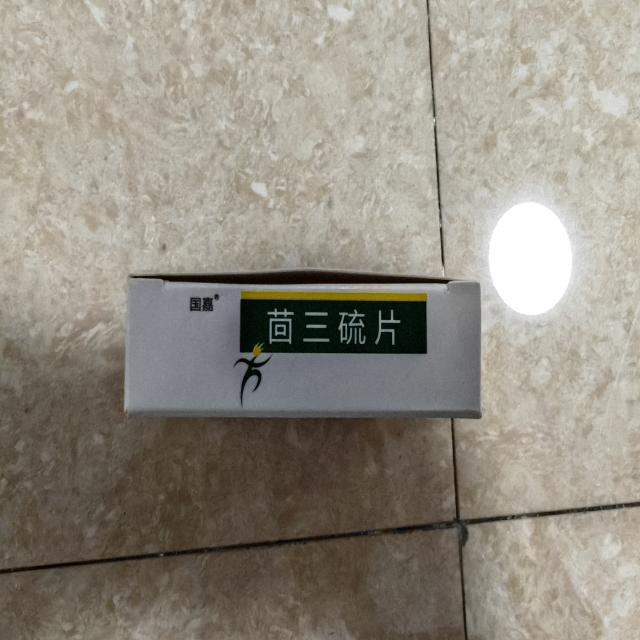box: (115, 260, 490, 432)
